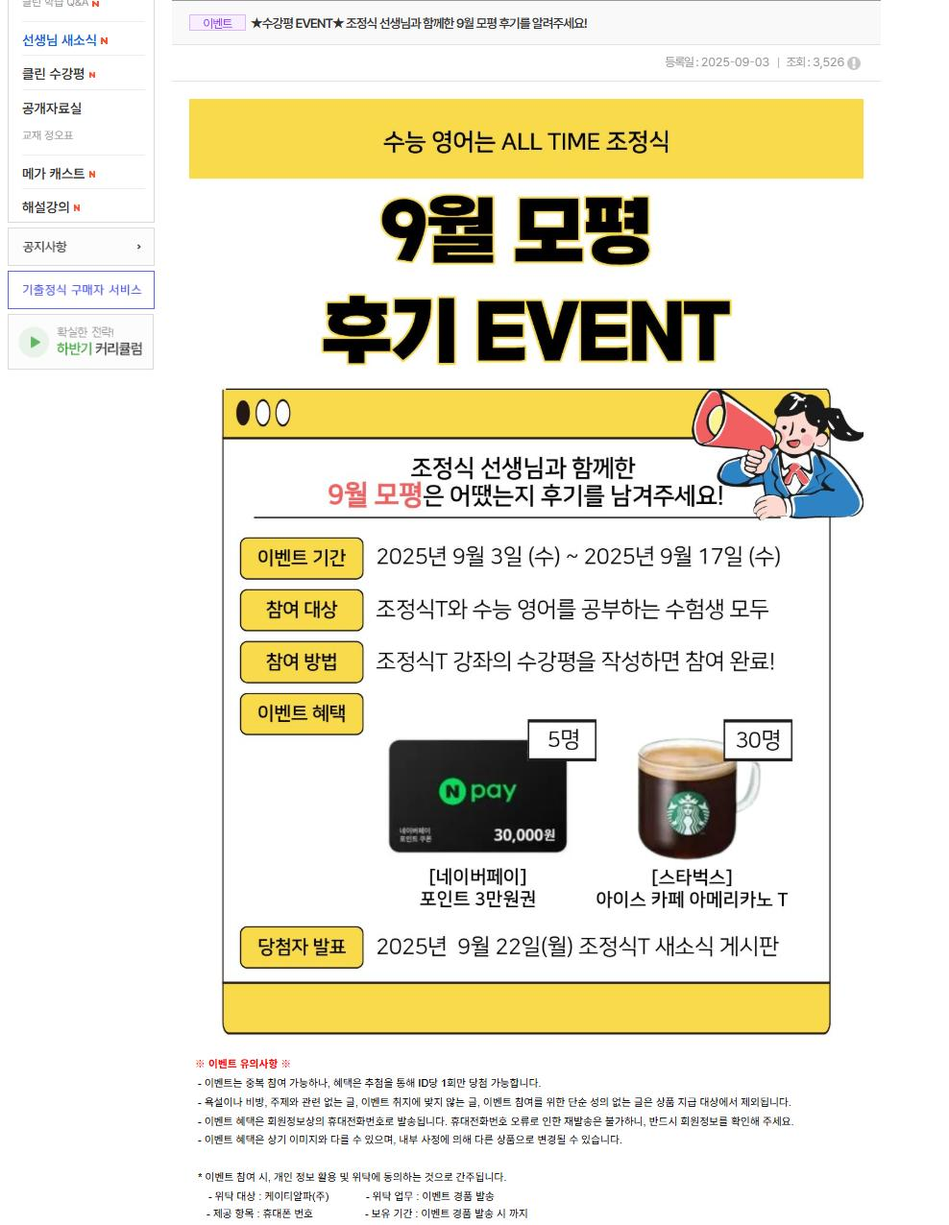button: (0, 315, 151, 372), (10, 101, 133, 154), (15, 227, 157, 267), (12, 272, 150, 308), (9, 56, 140, 88), (2, 25, 148, 53), (15, 160, 123, 185), (16, 196, 88, 220)
